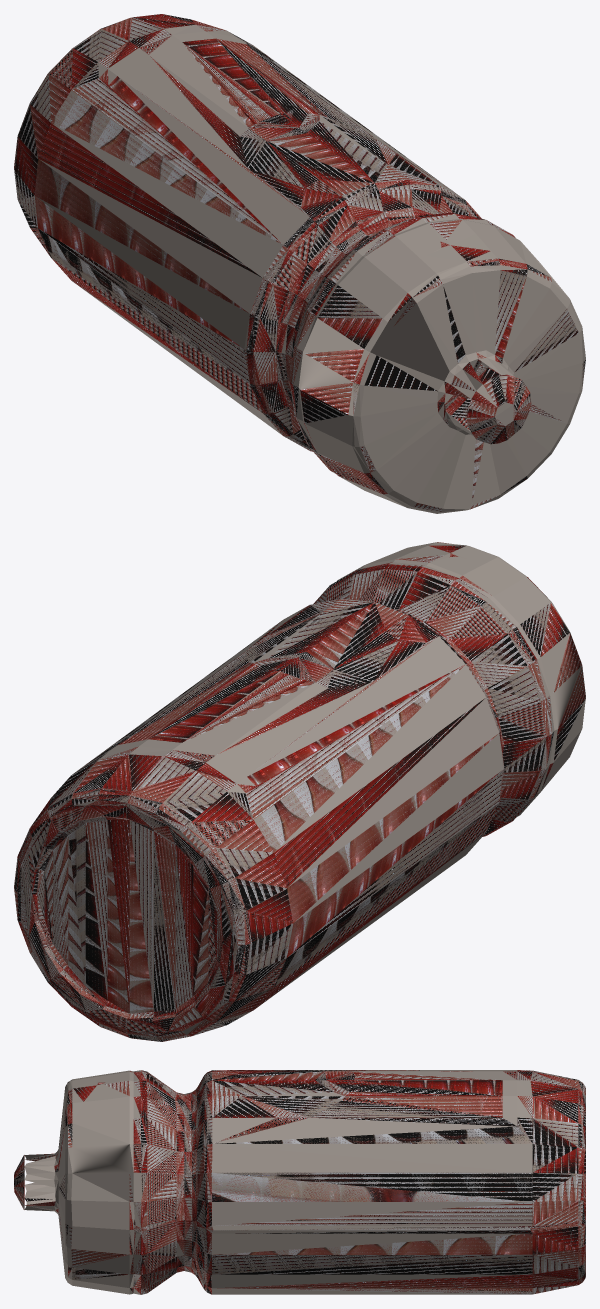
File: model_align.obj
3 renders of one model, top to bottom at view 1: azimuth 30°, elevation 25°; view 2: azimuth 150°, elevation 25°; view 3: azimuth 270°, elevation 25°, orthographic. The views are drawn at different scales.
Bounding box in the file's own units: 0.094 × 0.094 × 0.2382.
